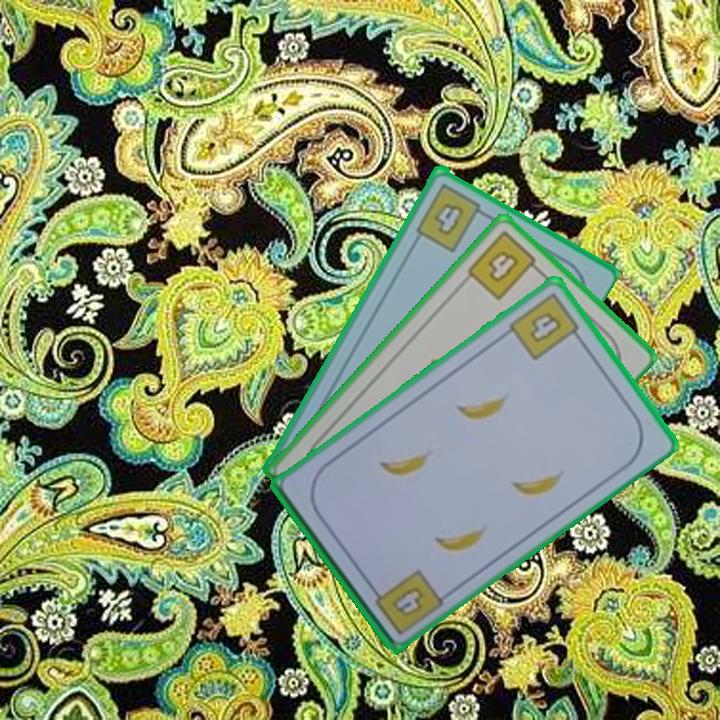4b: (463, 227, 545, 303), (412, 178, 491, 254), (505, 289, 586, 363), (366, 565, 446, 638)
